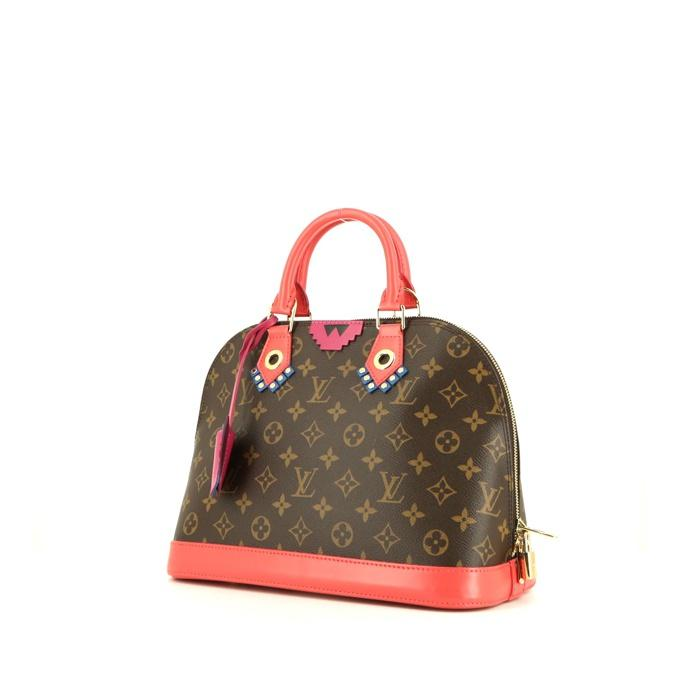LOUIS-VUITTON: (176, 321, 539, 577)
